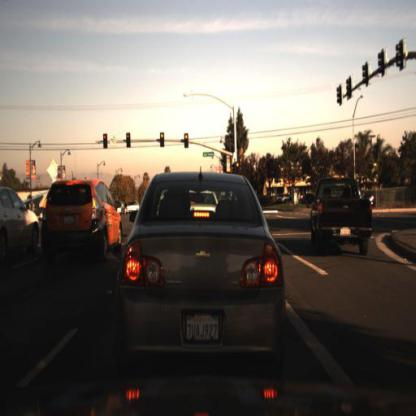car: (120, 173, 286, 370), (40, 174, 122, 270), (311, 175, 382, 267), (1, 193, 39, 263), (125, 199, 141, 216)
trafficLight-Red: (183, 132, 192, 151), (160, 132, 166, 150)
trafficLight-RedLeft: (125, 129, 133, 150), (101, 132, 109, 151)
